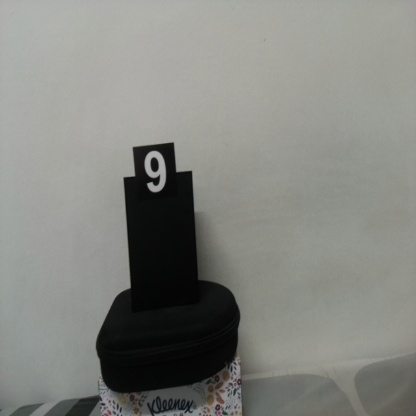id_9: (132, 146, 178, 210)
